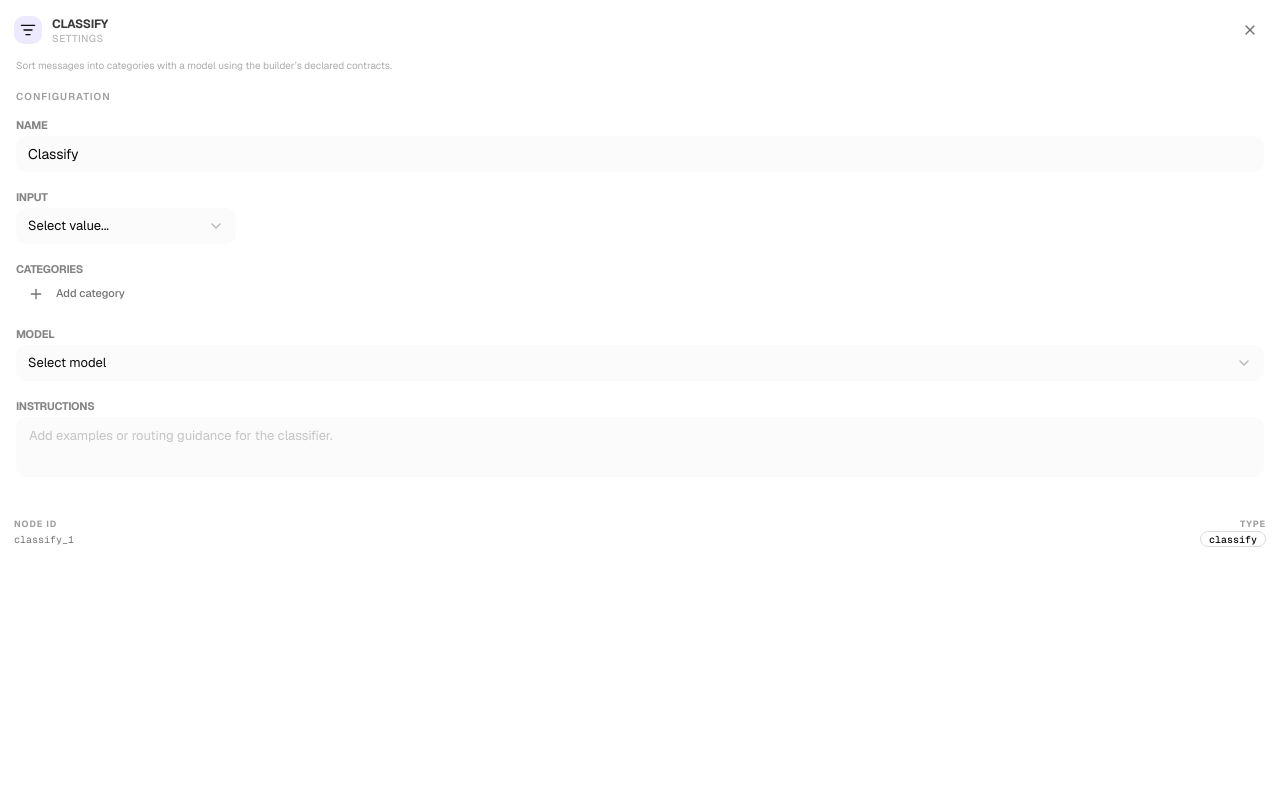
Test: ConfigPanel value_ref contracts › filters value-ref options using backend field contracts
Step 1. Click the dropdown labelled "Select value..." → (126, 226), box [16,208,236,244]
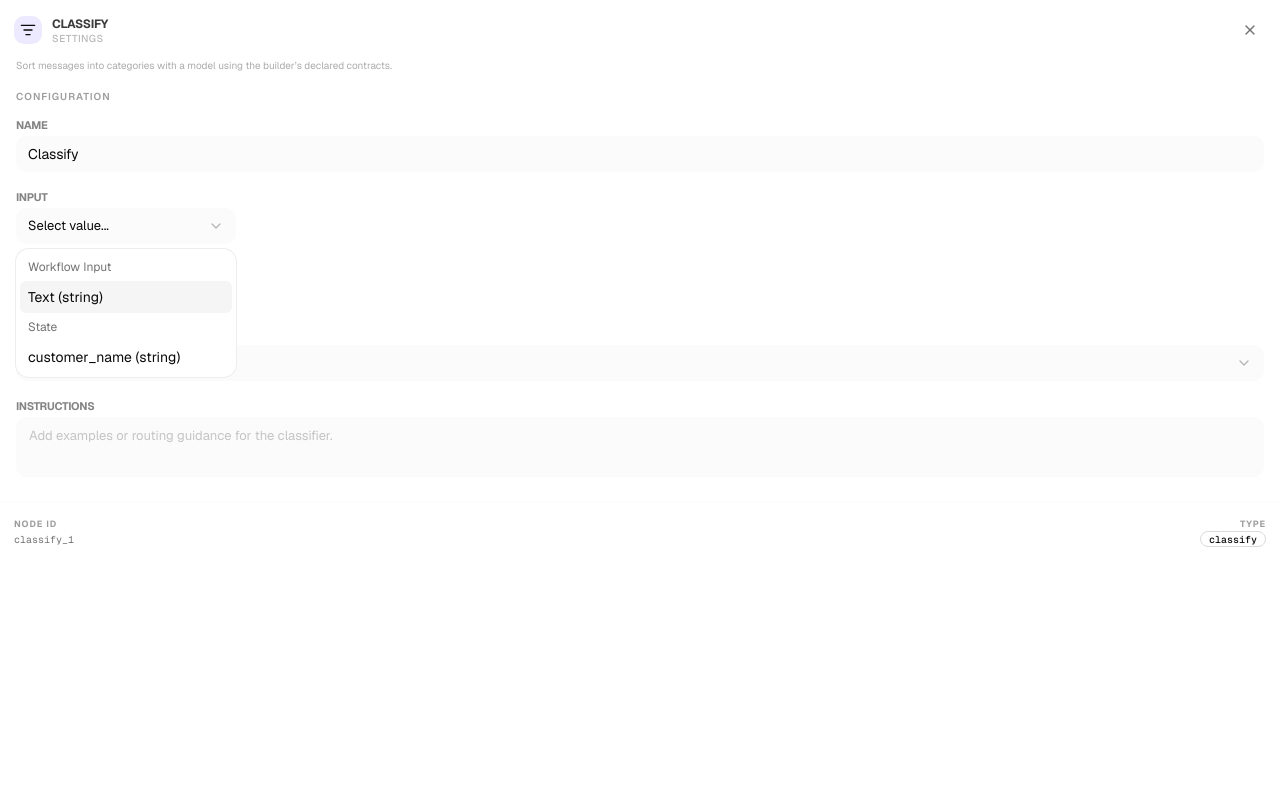
Expected: the text "Text (string)" is shown, [28,287,103,307]
